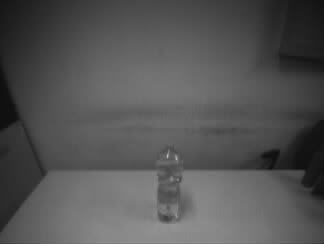Bottle: (155, 143, 184, 224)
